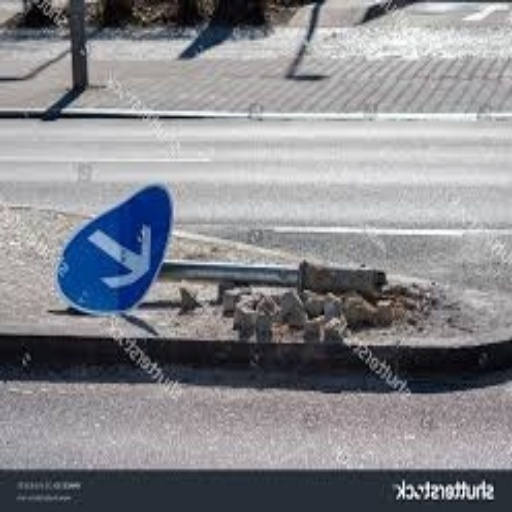Keep right: (38, 165, 192, 326)
